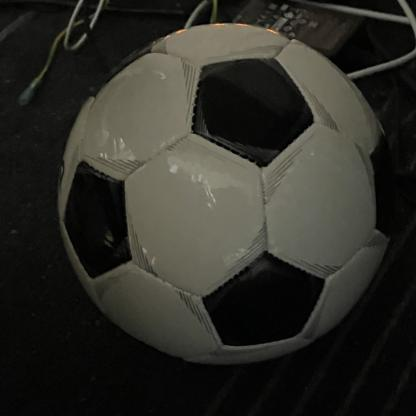ball: (56, 21, 395, 366)
